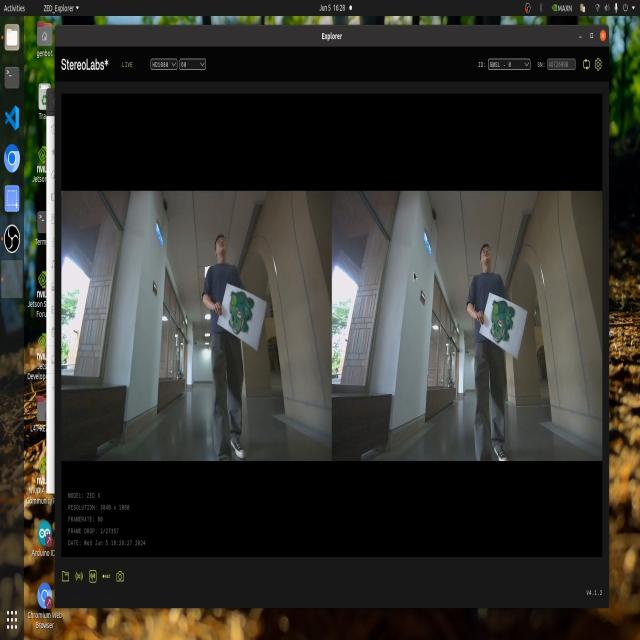green: (224, 284, 260, 340), (486, 298, 514, 356)
